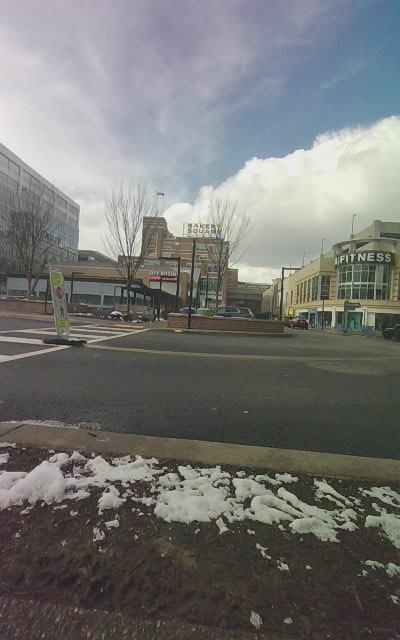curb: (0, 423, 399, 639)
road: (0, 317, 399, 458)
